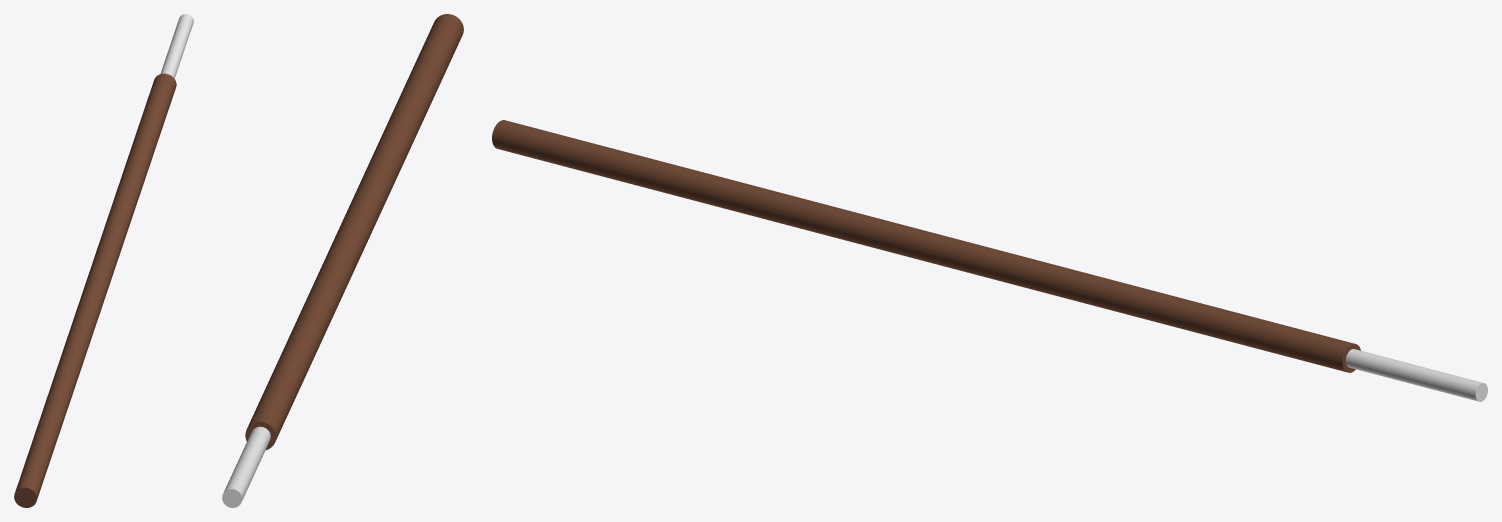
Rendered from electrode_6010_6011.fbx.
3 renders of one model, left to right at view 1: azimuth 30°, elevation 25°; view 2: azimuth 210°, elevation 25°; view 3: azimuth 270°, elevation 25°, orthographic. The views are drawn at different scales.
Parts seen in each view (by area): view 1: Cylinder; view 2: Cylinder; view 3: Cylinder.
Boxes of the visible parts, <box> form: Cylinder: <box>14,14,193,507</box>; Cylinder: <box>222,14,463,507</box>; Cylinder: <box>492,120,1487,401</box>.
Size of the model in its own units: 452 by 63.07 by 548.
